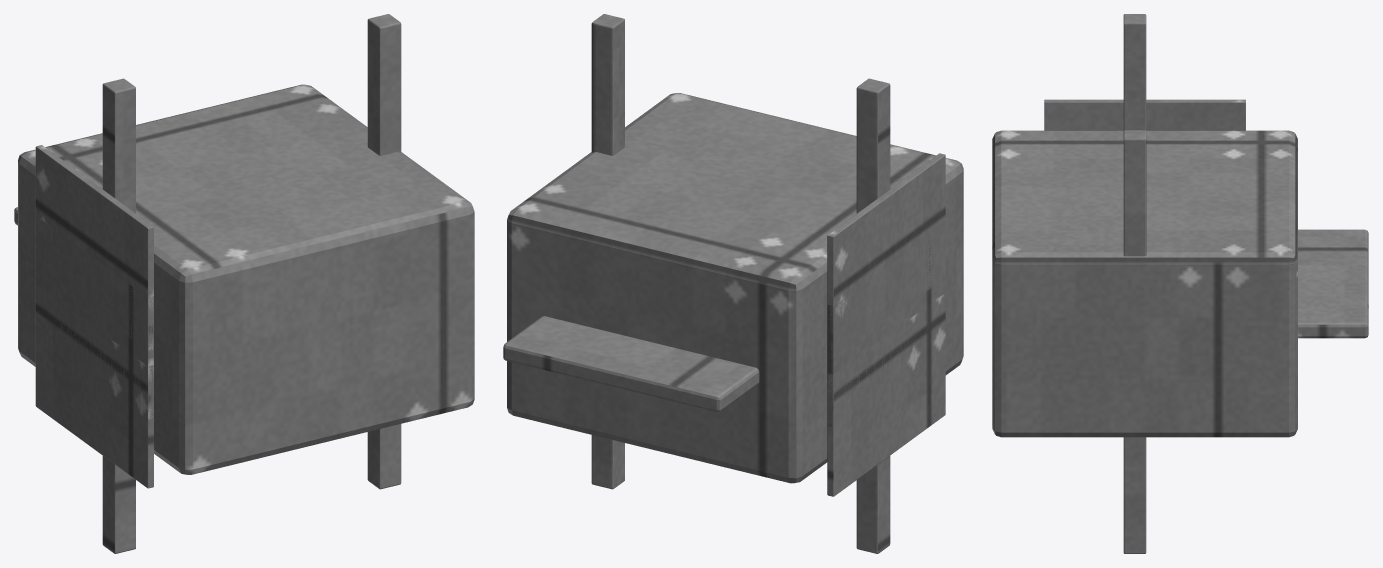
The model's file is hull_3.glb.
The picture shows the model from 3 angles, left to right: view 1: azimuth 30°, elevation 25°; view 2: azimuth 150°, elevation 25°; view 3: azimuth 270°, elevation 25°; orthographic projection. The views are drawn at different scales.
Parts seen in each view (by area): view 1: hull_3; view 2: hull_3; view 3: hull_3.
Boxes of the visible parts, <box> form: hull_3: <box>14,14,474,553</box>; hull_3: <box>503,14,963,553</box>; hull_3: <box>992,14,1368,553</box>.
Bounding box in the file's own units: 0.922 × 1.35 × 1.11.
1 material, 1 textured.
